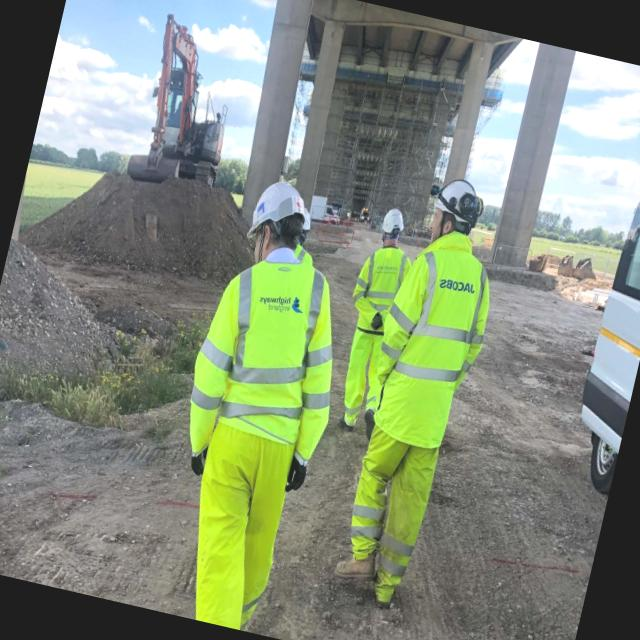helmet: (246, 162, 318, 245), (420, 165, 488, 235)
vest: (180, 240, 343, 470), (358, 226, 498, 452)
